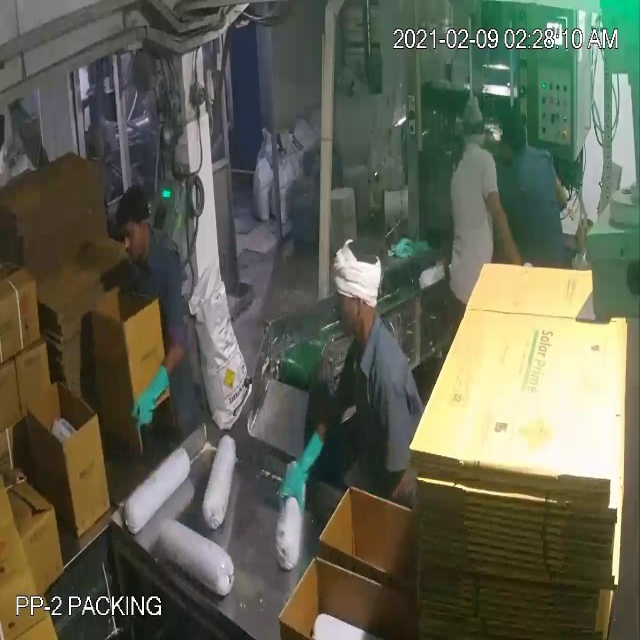Guantes: (275, 418, 331, 514), (126, 361, 177, 434)
Sin_guantes: (477, 176, 530, 271)
